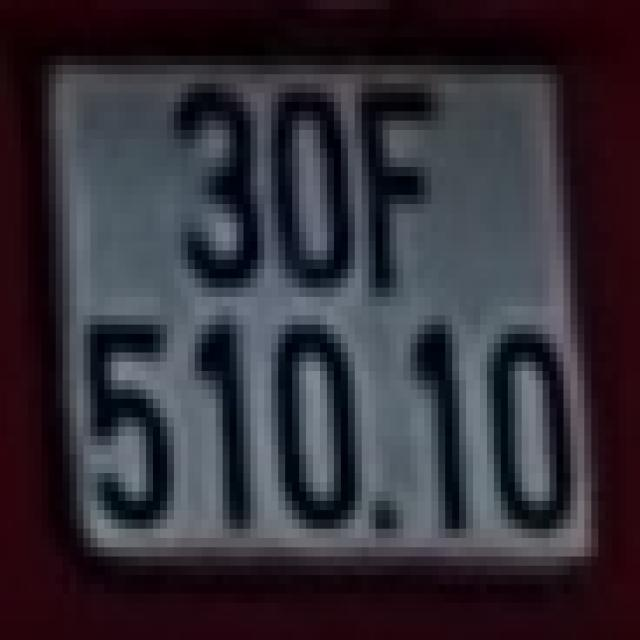0: (271, 315, 362, 529), (487, 325, 577, 538), (271, 84, 355, 288)
1: (410, 325, 473, 538), (195, 315, 257, 529)
3: (167, 84, 264, 288)
5: (83, 315, 174, 529)
F: (355, 74, 438, 297)
